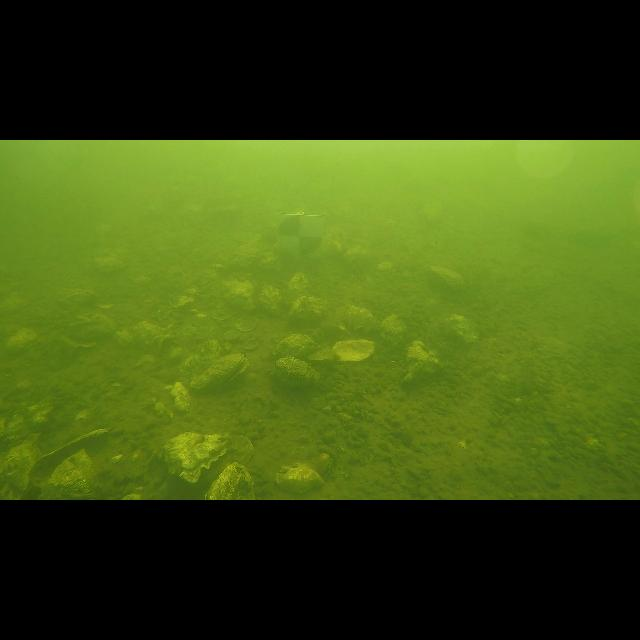Oyster-Closed: (161, 429, 231, 484), (43, 451, 99, 500), (188, 352, 246, 391), (205, 462, 255, 500), (178, 338, 224, 377), (404, 339, 443, 381), (0, 448, 31, 498), (274, 356, 320, 388), (276, 464, 324, 494), (64, 313, 116, 339), (132, 323, 175, 351), (338, 306, 381, 332), (274, 334, 318, 358), (289, 296, 325, 325), (451, 310, 480, 344), (224, 279, 254, 310), (430, 266, 464, 288), (229, 242, 270, 260), (259, 285, 282, 315), (6, 329, 38, 350), (0, 293, 26, 316), (379, 313, 404, 336), (90, 258, 128, 271), (288, 272, 309, 291), (343, 246, 370, 260)
Oyster-Open: (31, 427, 108, 479), (309, 339, 375, 361)
